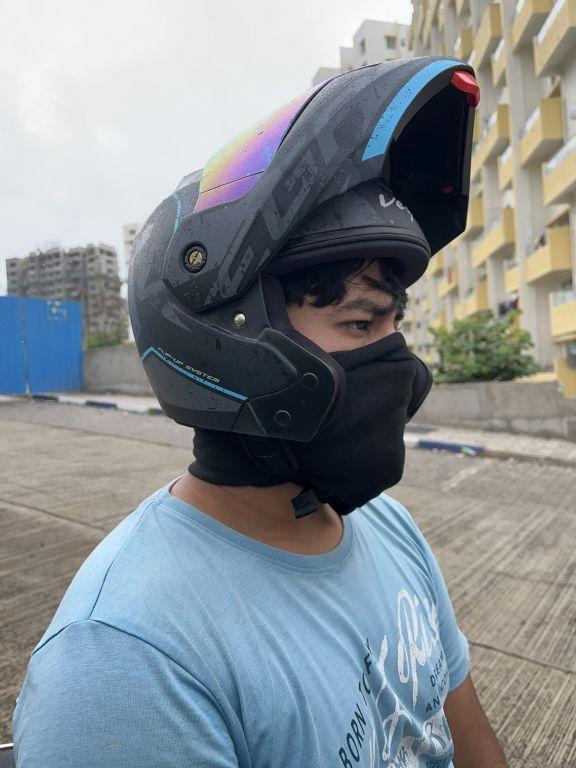helmet: (114, 39, 489, 510)
